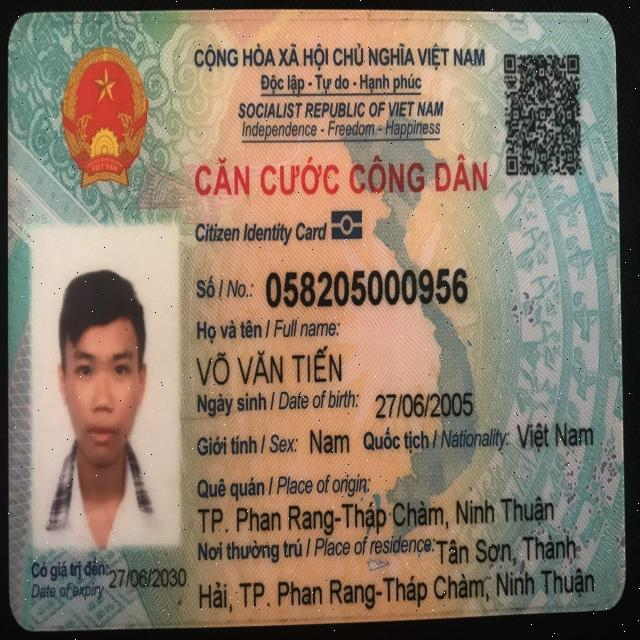current_place: (195, 565, 601, 612), (434, 531, 580, 568)
dob: (370, 384, 477, 423)
expire_date: (107, 561, 190, 594)
gender: (307, 422, 351, 460)
id: (263, 260, 473, 313)
name: (191, 342, 348, 390)
nationality: (514, 420, 596, 456)
origin_place: (192, 494, 558, 536)
